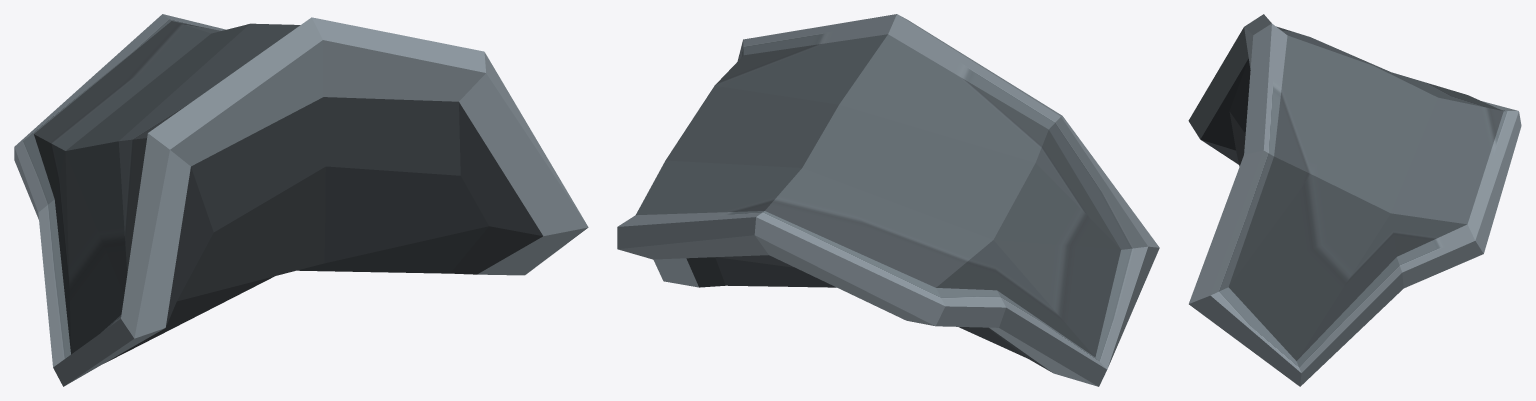
File: SM_Chr_Attach_Armour_Light_Neck_Large_01.fbx
3 views of the same model, side by side, from view 1: azimuth 30°, elevation 25°; view 2: azimuth 150°, elevation 25°; view 3: azimuth 270°, elevation 25° (orthographic). The views are drawn at different scales.
Visible parts, largest first — view 1: SM_Chr_Attach_Armour_Light_Neck_Large_01; view 2: SM_Chr_Attach_Armour_Light_Neck_Large_01; view 3: SM_Chr_Attach_Armour_Light_Neck_Large_01.
Boxes of the visible parts, left/top/right/bottom form: SM_Chr_Attach_Armour_Light_Neck_Large_01: left=14, top=14, right=588, bottom=386; SM_Chr_Attach_Armour_Light_Neck_Large_01: left=617, top=14, right=1159, bottom=386; SM_Chr_Attach_Armour_Light_Neck_Large_01: left=1188, top=14, right=1521, bottom=386.
Size of the model in its own units: 30.51 by 19.84 by 22.13.
